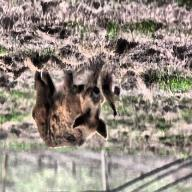boar: (32, 61, 107, 148)
